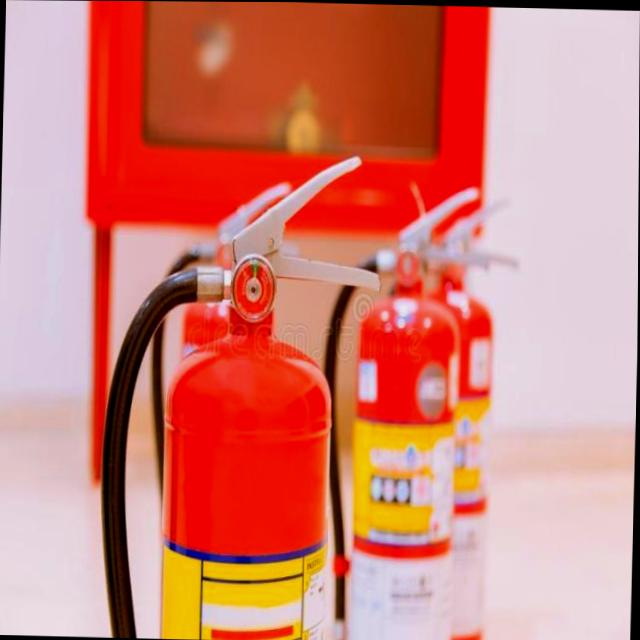FireExtinguisher: (93, 138, 386, 640), (309, 176, 491, 640), (359, 176, 529, 640)
